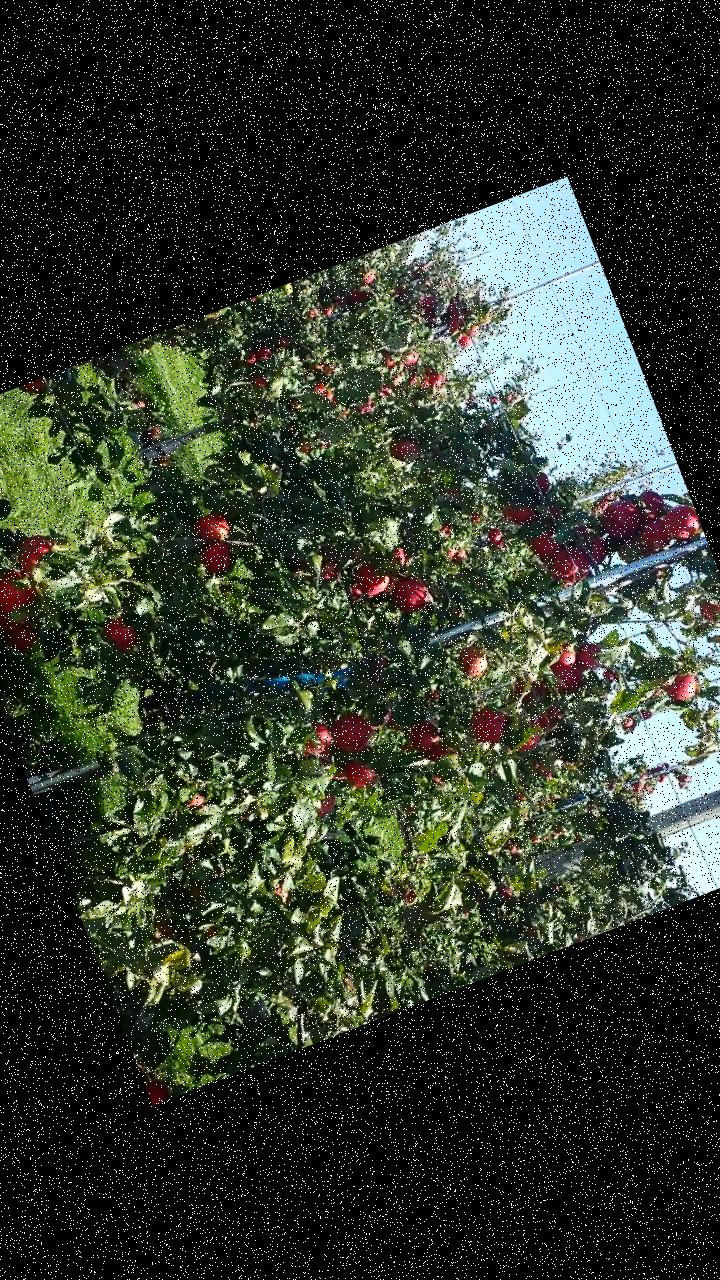Apple: (511, 662, 570, 708), (12, 526, 63, 576), (546, 540, 598, 589), (596, 492, 646, 541), (328, 707, 376, 755), (388, 570, 435, 617), (466, 700, 512, 746), (0, 562, 39, 614), (661, 498, 703, 543), (350, 554, 392, 596), (99, 611, 141, 653), (660, 666, 704, 706), (614, 524, 660, 562), (342, 750, 382, 791), (191, 507, 234, 545), (406, 714, 446, 754), (500, 494, 541, 530), (526, 697, 566, 733), (386, 427, 426, 463), (300, 732, 336, 772), (198, 536, 235, 574), (637, 512, 673, 551), (457, 640, 493, 679), (551, 656, 588, 692), (526, 526, 564, 560), (5, 618, 40, 652), (144, 1072, 178, 1106), (637, 482, 669, 518), (573, 637, 606, 670), (546, 640, 578, 670), (585, 528, 611, 564), (314, 552, 343, 584), (364, 706, 398, 732), (426, 738, 461, 762), (697, 586, 719, 624), (366, 653, 395, 681), (0, 603, 24, 635), (313, 790, 340, 818), (269, 878, 294, 908), (311, 714, 334, 745), (572, 516, 594, 546), (516, 732, 544, 752), (390, 540, 411, 566), (183, 788, 208, 809), (534, 467, 552, 494), (548, 498, 564, 518), (330, 770, 348, 782)
